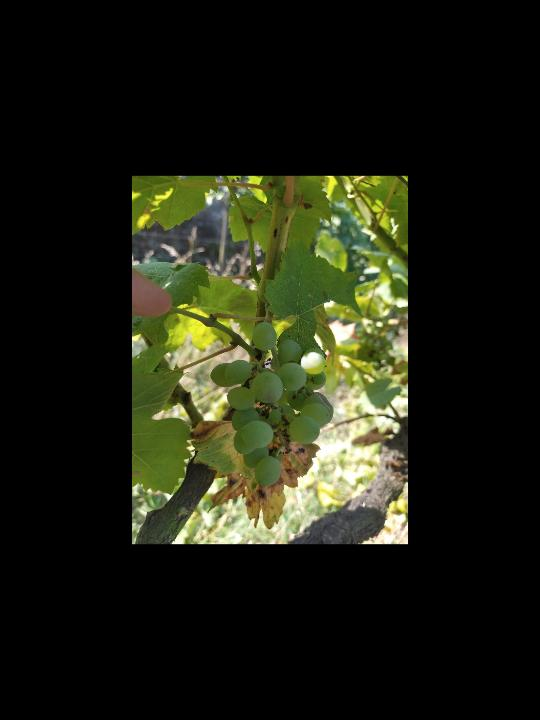grape: (209, 320, 336, 490)
